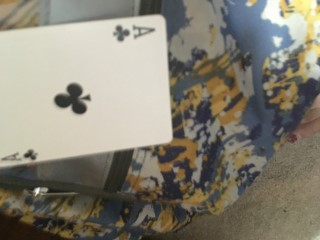AceOfClubs: (1, 13, 173, 167)
